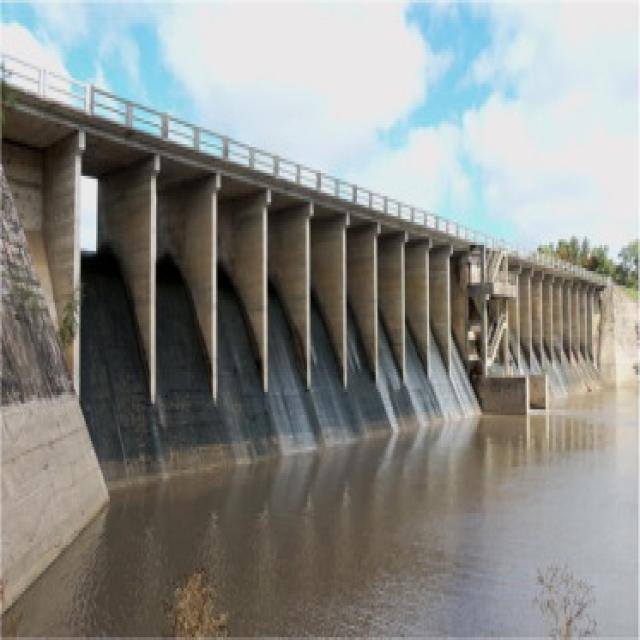Concrete: (0, 44, 606, 428)
